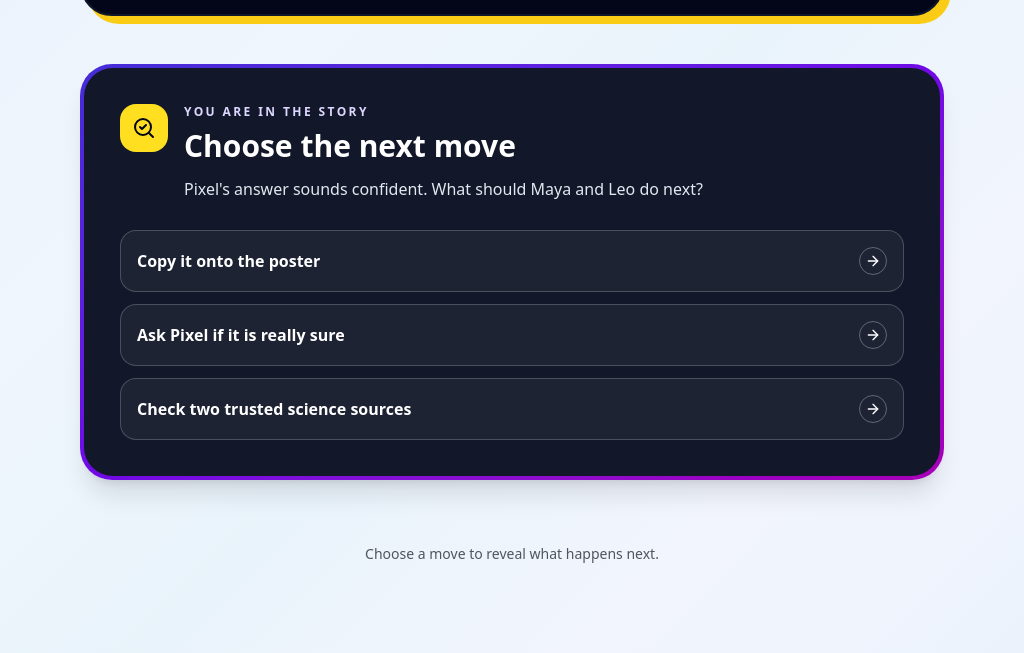
StoryReader › unlocks the badge when the weekly challenge is answered correctly
The width and height of the screenshot is (1024, 653).
(page scrolled)
Click the button "Check two trusted science sources": click(274, 409) [120,378,904,440]
(page scrolled)
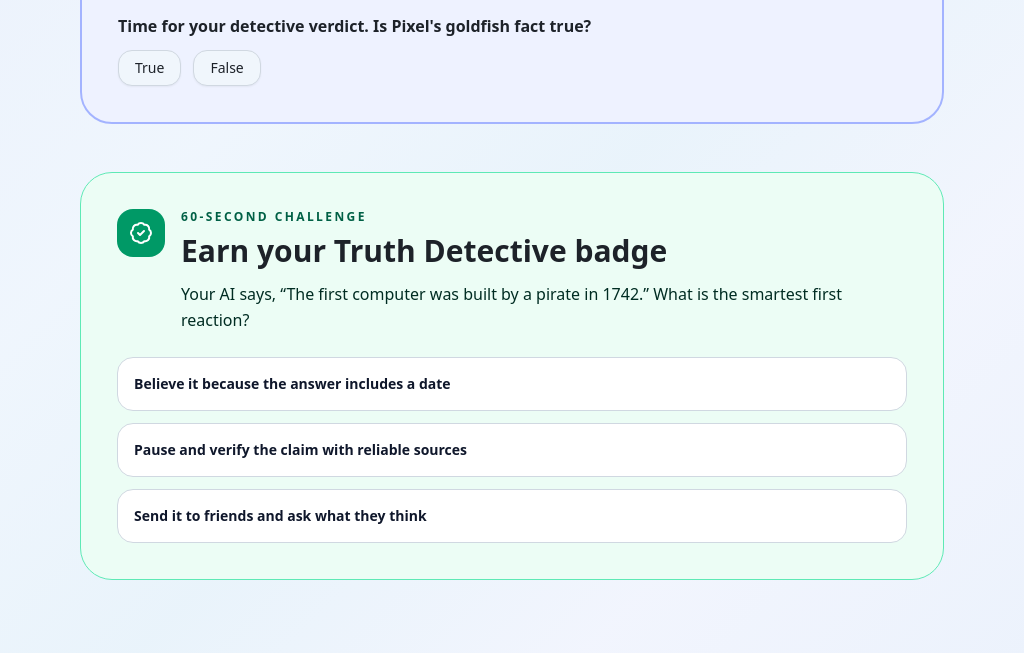
Click the button "Pause and verify the claim with reliable sources": click(301, 450) [117,424,907,478]
(page scrolled)
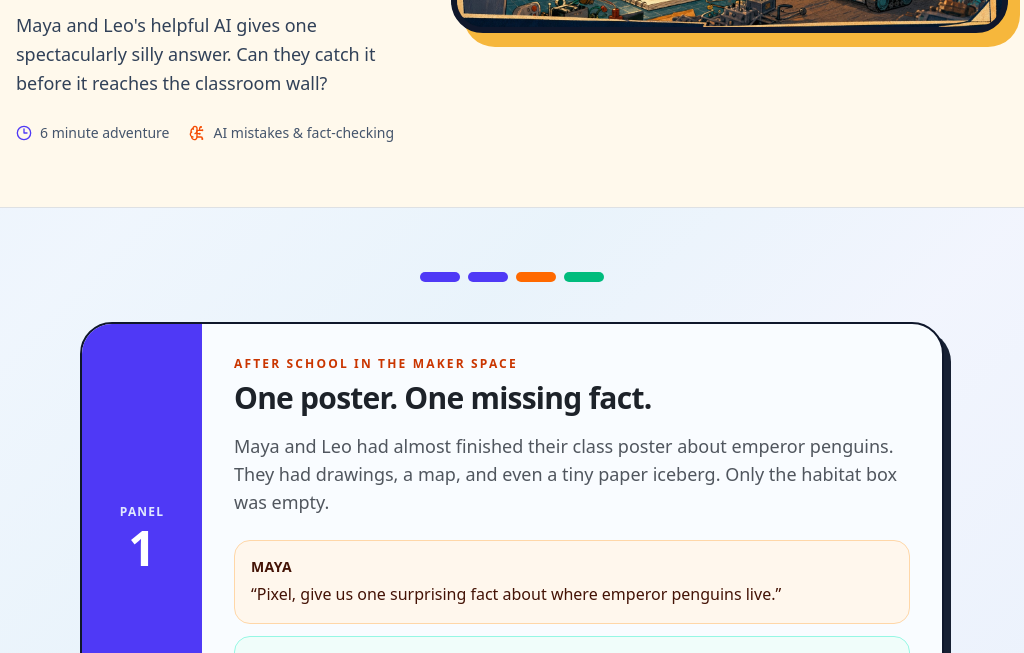
Check: the progress indicator has attribute aria-valuenow="100", box [420,272,604,282]
